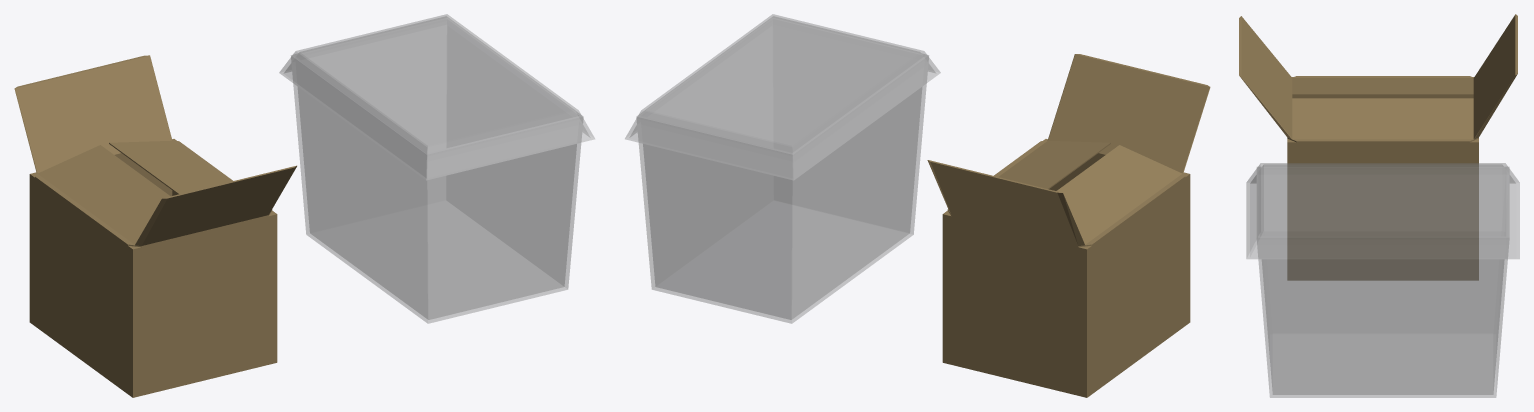
The model's file is Box(Plastic and Karton).fbx.
3 renders of one model, left to right at view 1: azimuth 30°, elevation 25°; view 2: azimuth 150°, elevation 25°; view 3: azimuth 270°, elevation 25°, orthographic. The views are drawn at different scales.
Visible parts, largest first — view 1: pCube3, pCube1, pCube2; view 2: pCube1, pCube3, pCube2; view 3: pCube3, pCube1, pCube2.
Boxes of the visible parts, x1,y1,x2,y2 form: pCube3: (291, 24, 583, 323); pCube1: (14, 55, 296, 397); pCube2: (279, 14, 594, 180); pCube1: (927, 54, 1210, 397); pCube3: (636, 24, 928, 323); pCube2: (625, 14, 940, 180); pCube3: (1257, 167, 1509, 397); pCube1: (1239, 14, 1517, 280); pCube2: (1246, 163, 1519, 258).
Bounding box in the file's own units: 9.09 × 4.31 × 5.4.
